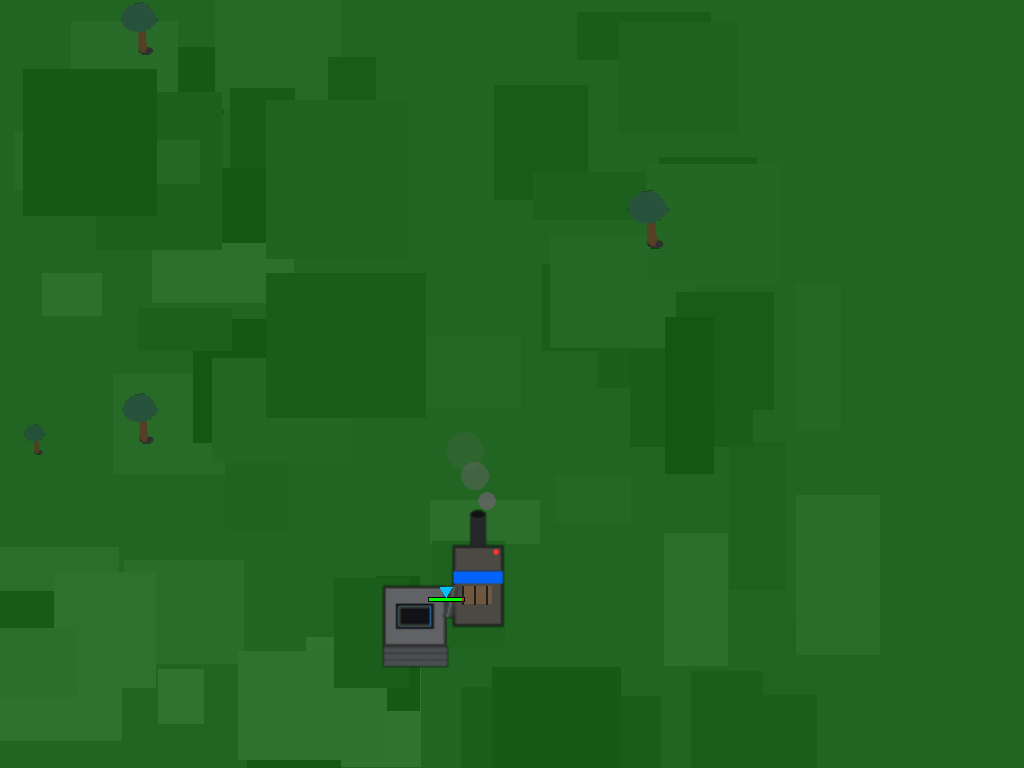MiningRig: (377, 528, 514, 665)
